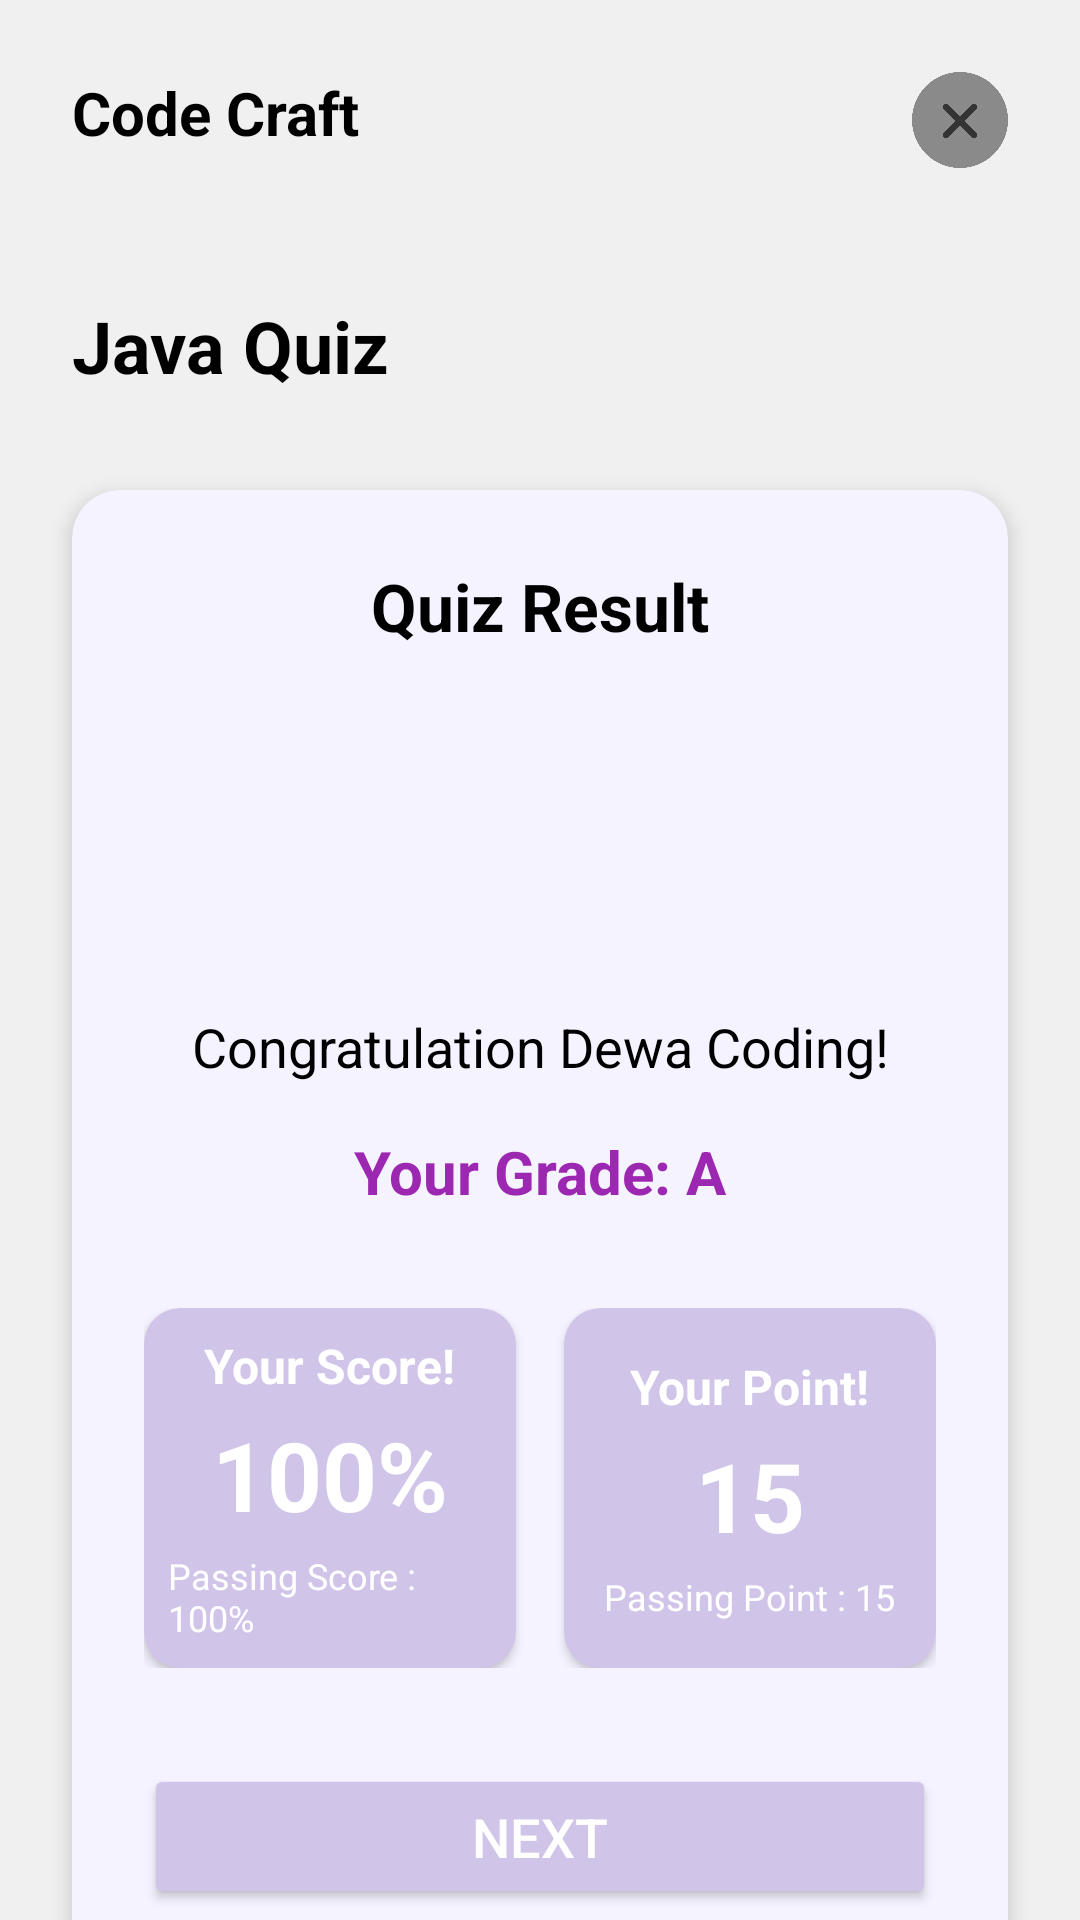

Named icons in this screenshot (1080px x 1920px) and their bounding boxes, (x1, y1, x2, y2):
Close: (912, 72, 1008, 168)
